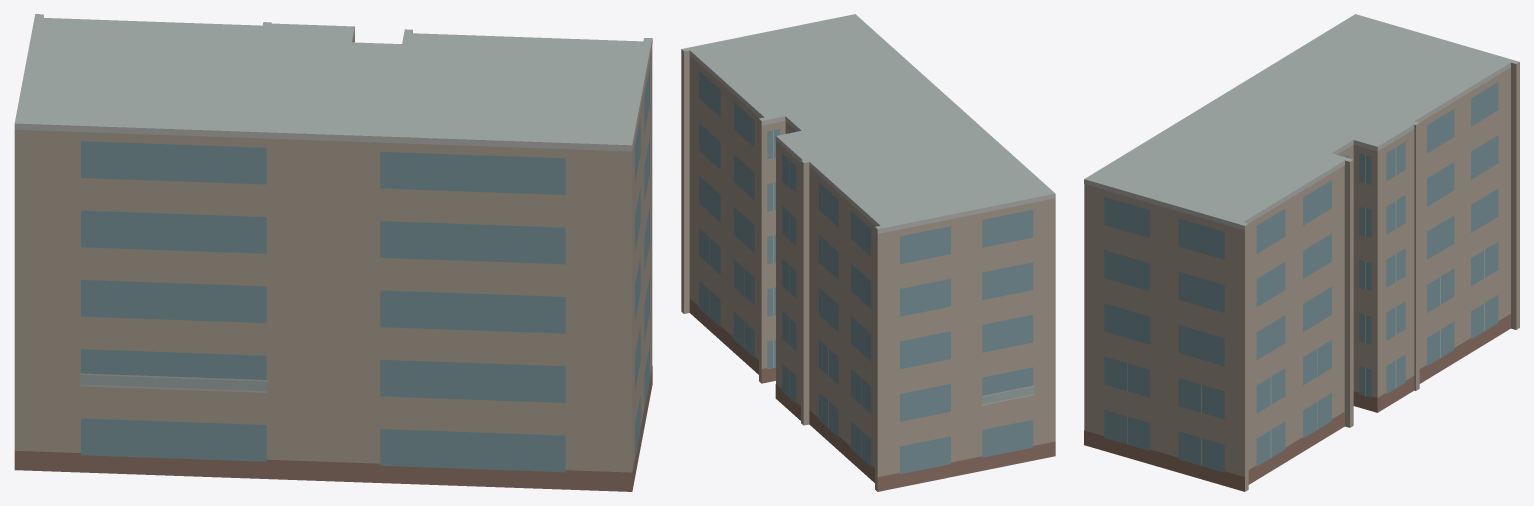
Rendered from survey-upis-32539137.glb.
3 views of the same model, side by side, from view 1: azimuth 30°, elevation 25°; view 2: azimuth 150°, elevation 25°; view 3: azimuth 270°, elevation 25° (orthographic). The views are drawn at different scales.
Visible parts, largest first — view 1: survey-upis-32539137.tmp; view 2: survey-upis-32539137.tmp; view 3: survey-upis-32539137.tmp.
Part boxes in pixels (box(x1,y1,x2,y2)): survey-upis-32539137.tmp: box(14, 14, 652, 491); survey-upis-32539137.tmp: box(681, 14, 1055, 491); survey-upis-32539137.tmp: box(1084, 14, 1519, 491).
Bounding box in the file's own units: 23.42 × 13.7 × 20.34.
